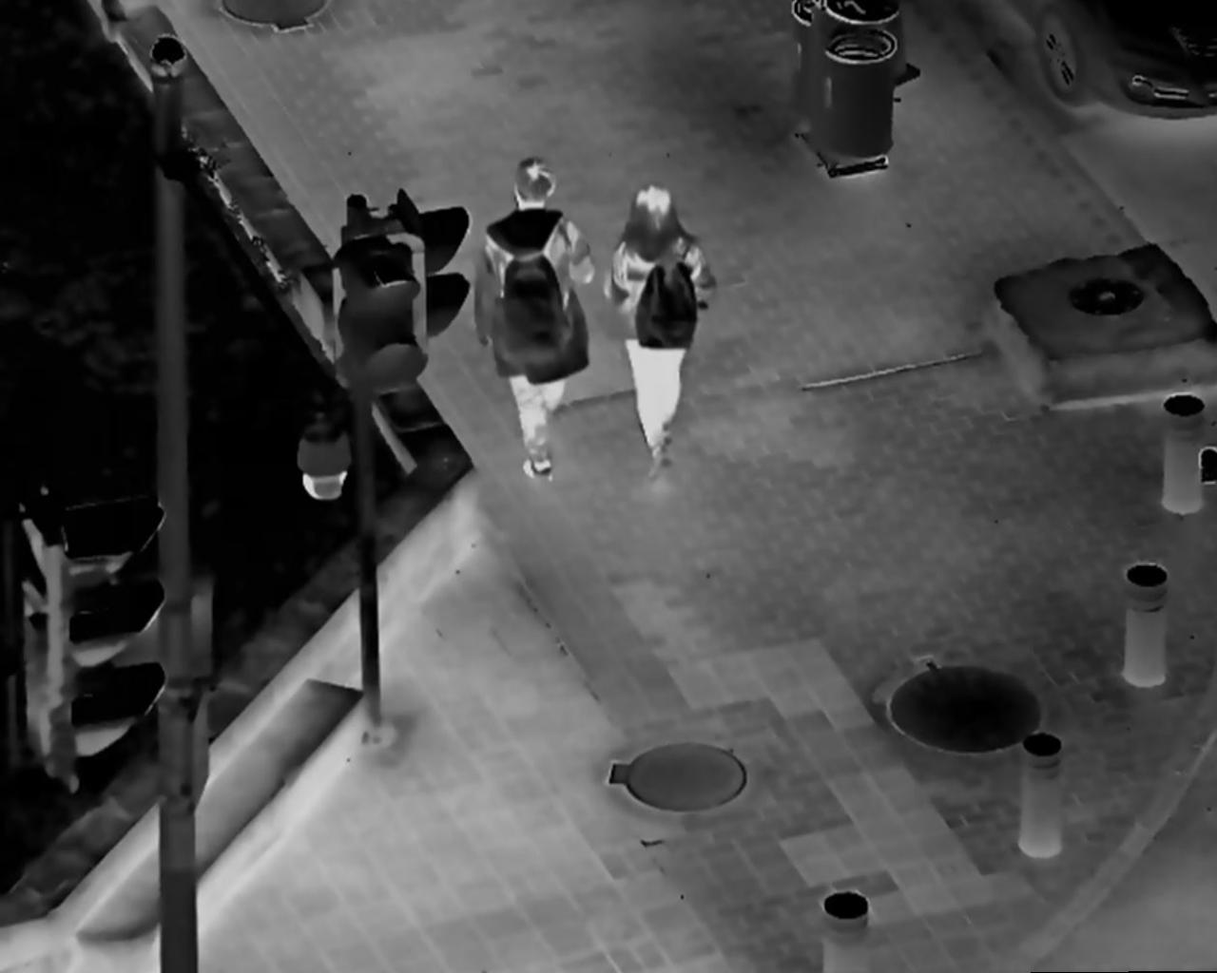person: (464, 158, 602, 480), (597, 181, 719, 486)
